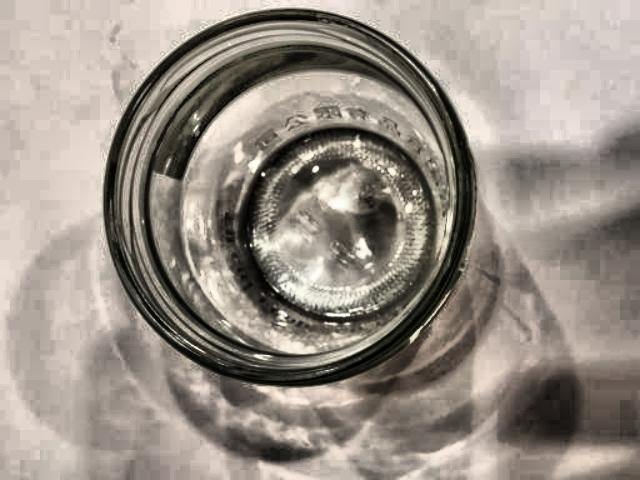Almennt: (80, 0, 504, 392)
